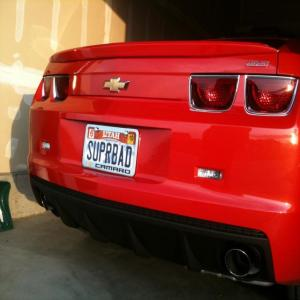Plate: (82, 124, 139, 176)
